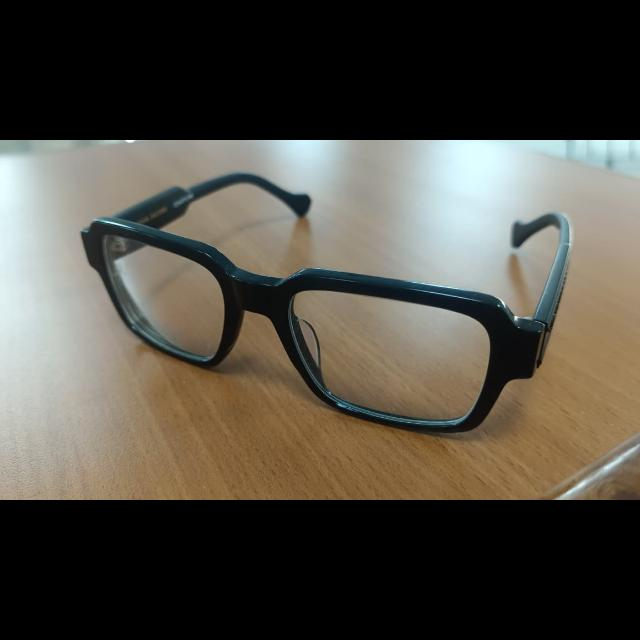glasses: (89, 174, 566, 434)
